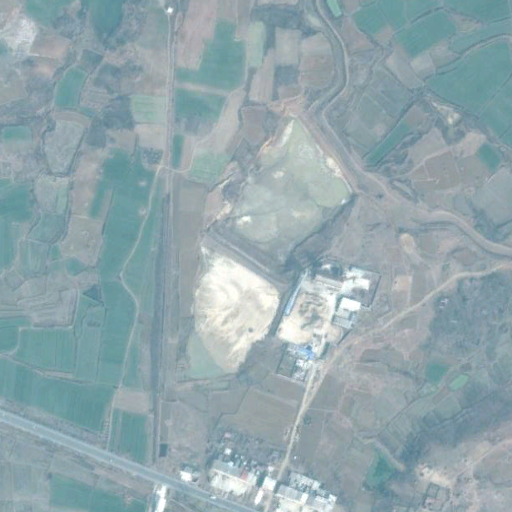tp: (181, 117, 354, 381)
